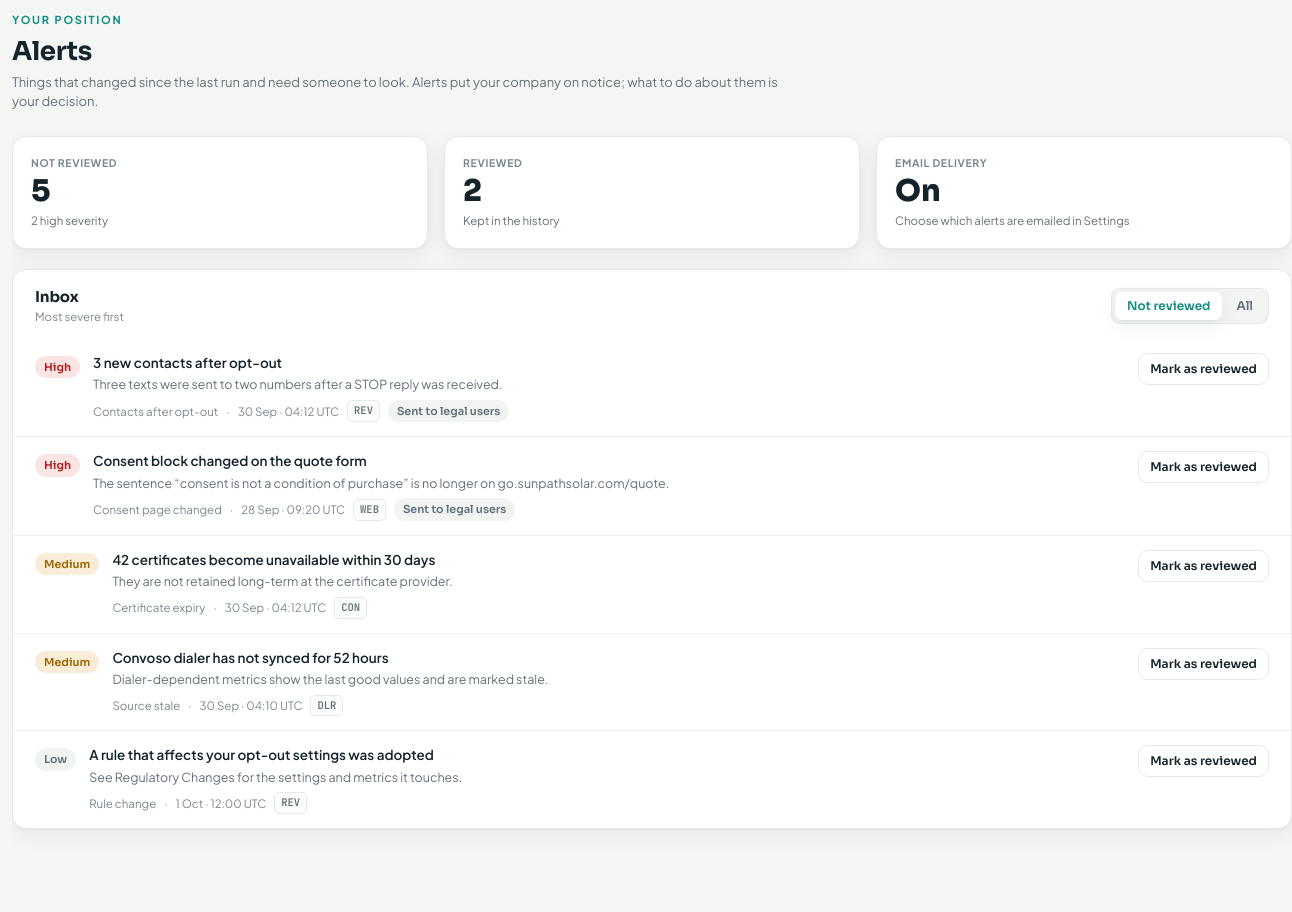
interactions › marks an alert as reviewed
Click the button "Mark as reviewed" in the row of "3 new contacts after opt-out" at (1204, 369), box [1138, 353, 1269, 385]
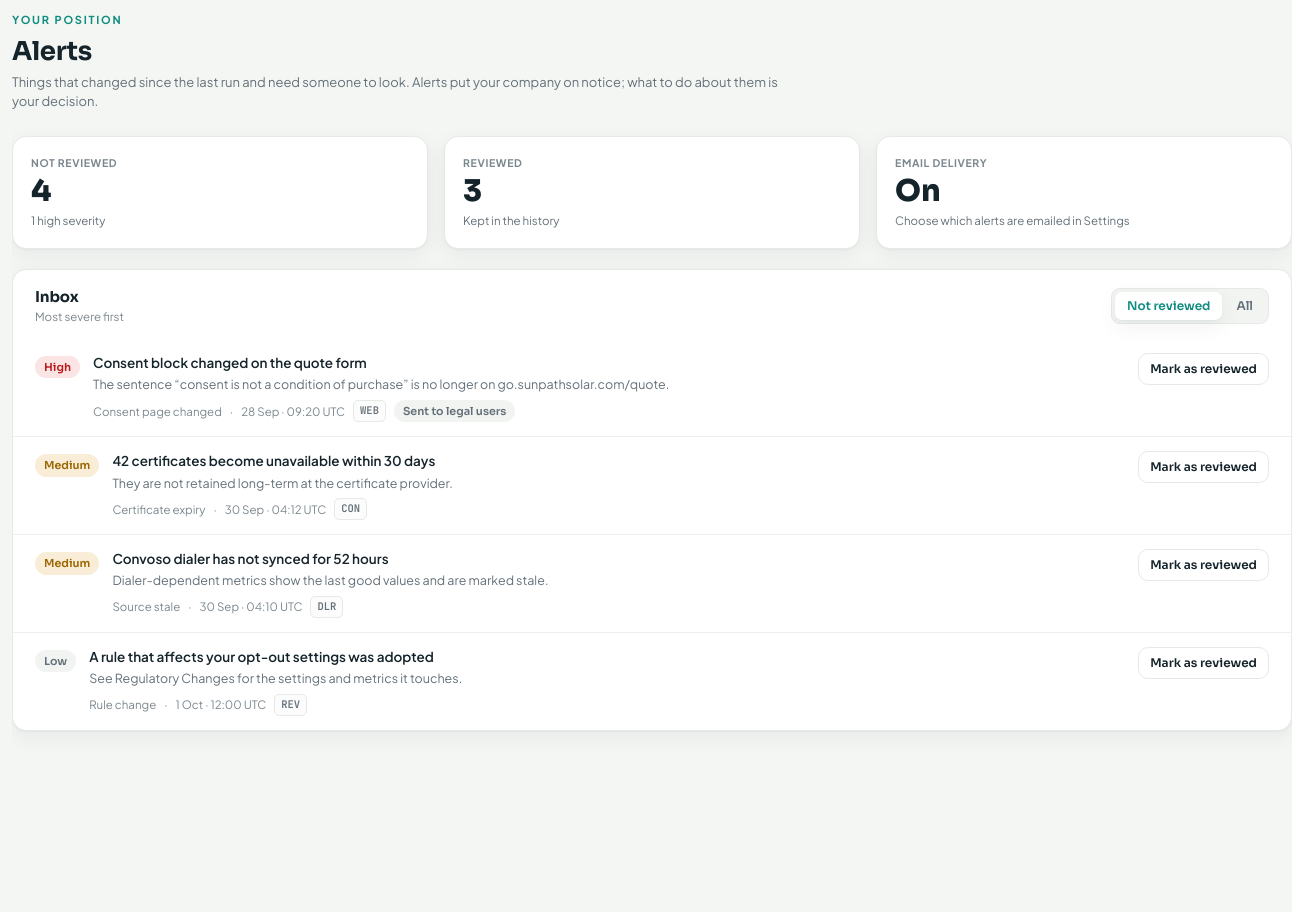
Expected: the number of buttons "Mark as reviewed" is 4, [1138, 353, 1269, 385]; [1138, 451, 1269, 483]; [1138, 549, 1269, 581]; [1138, 647, 1269, 679]
